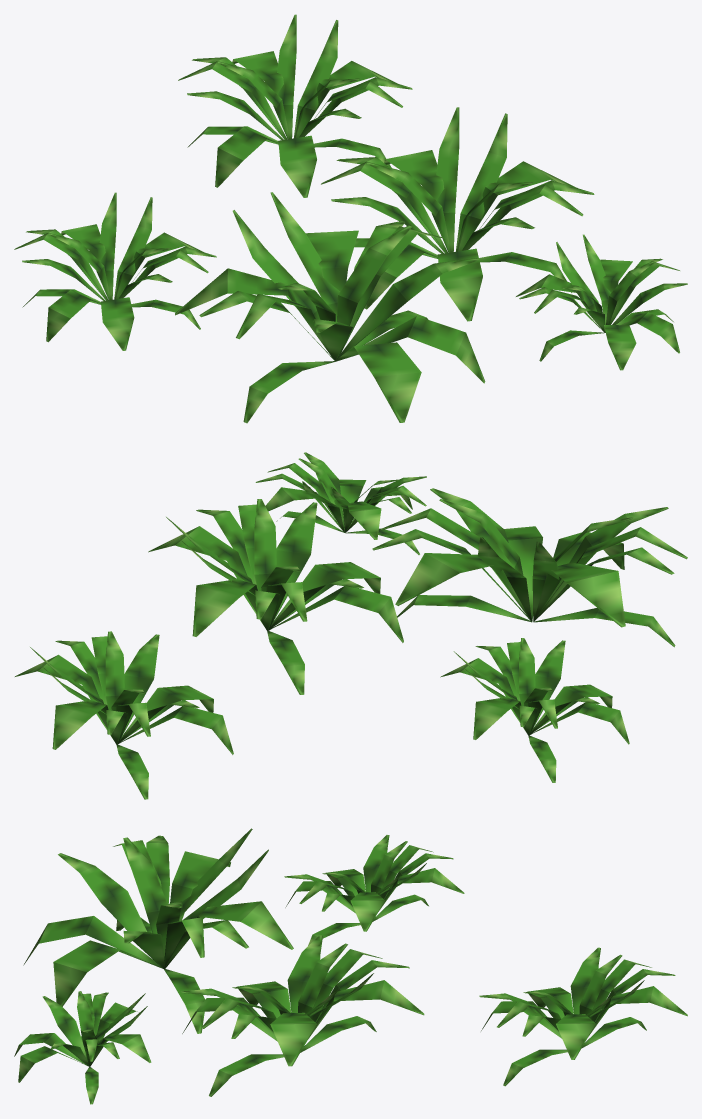
Rendered from Poly_Weed_Plant_03.obj.
3 views of the same model, one above another, from view 1: azimuth 30°, elevation 25°; view 2: azimuth 150°, elevation 25°; view 3: azimuth 270°, elevation 25° (orthographic). The views are drawn at different scales.
Visible parts, largest first — view 1: Plane.003, Plane.001, Plane.005, Plane.004, Plane.002; view 2: Plane.003, Plane.001, Plane.005, Plane.004, Plane.002; view 3: Plane.003, Plane.001, Plane.005, Plane.004, Plane.002.
Part boxes in pixels (x1,y1,x2,y2): Plane.003: [175, 192, 485, 423]; Plane.001: [321, 107, 594, 321]; Plane.005: [178, 14, 412, 197]; Plane.004: [14, 192, 216, 350]; Plane.002: [516, 234, 687, 370]; Plane.003: [372, 488, 687, 647]; Plane.001: [148, 499, 403, 694]; Plane.005: [15, 631, 233, 799]; Plane.004: [440, 638, 629, 782]; Plane.002: [255, 452, 426, 554]; Plane.003: [23, 828, 293, 1033]; Plane.001: [181, 935, 424, 1096]; Plane.005: [479, 947, 687, 1086]; Plane.004: [284, 835, 464, 945]; Plane.002: [14, 991, 151, 1104].
Size of the model in its own units: 0.8074 by 0.2187 by 1.03.
1 material, 1 textured.
